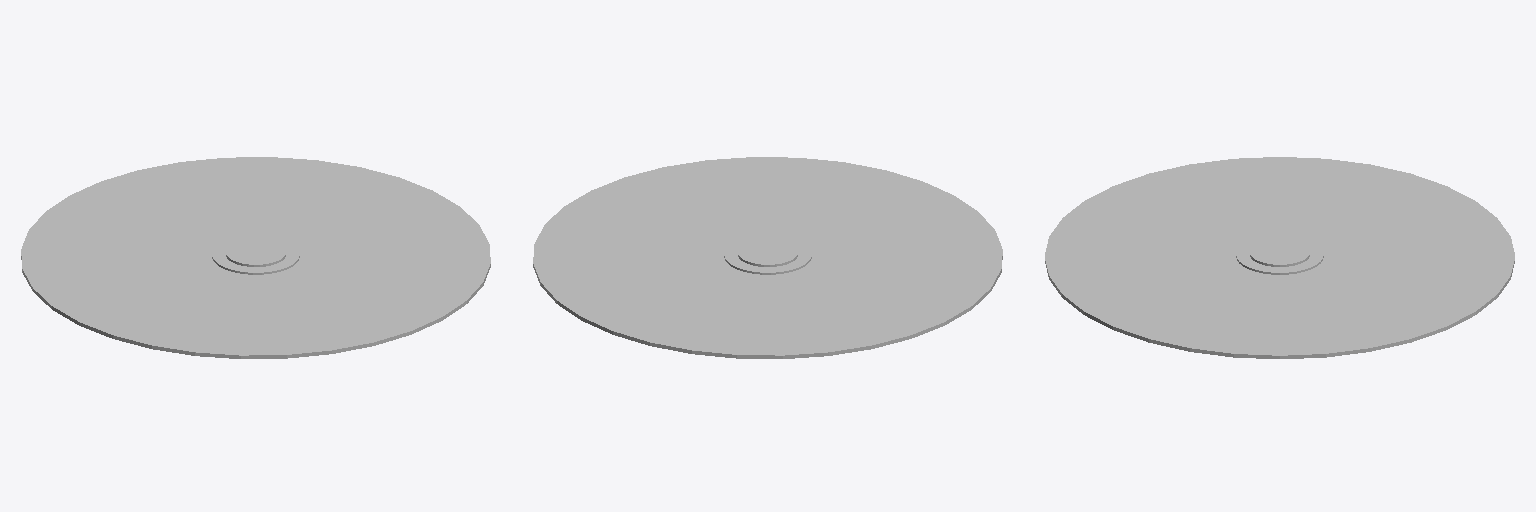
Rendered from centerBall.obj.
3 views of the same model, side by side, from view 1: azimuth 30°, elevation 25°; view 2: azimuth 150°, elevation 25°; view 3: azimuth 270°, elevation 25° (orthographic).
Parts seen in each view (by area): view 1: Cylinder; view 2: Cylinder; view 3: Cylinder.
Part boxes in pixels (left/top/right/bottom): Cylinder: left=21, top=157, right=490, bottom=358; Cylinder: left=533, top=157, right=1002, bottom=358; Cylinder: left=1045, top=157, right=1514, bottom=358.
Bounding box in the file's own units: 13.46 × 0.2522 × 13.46.